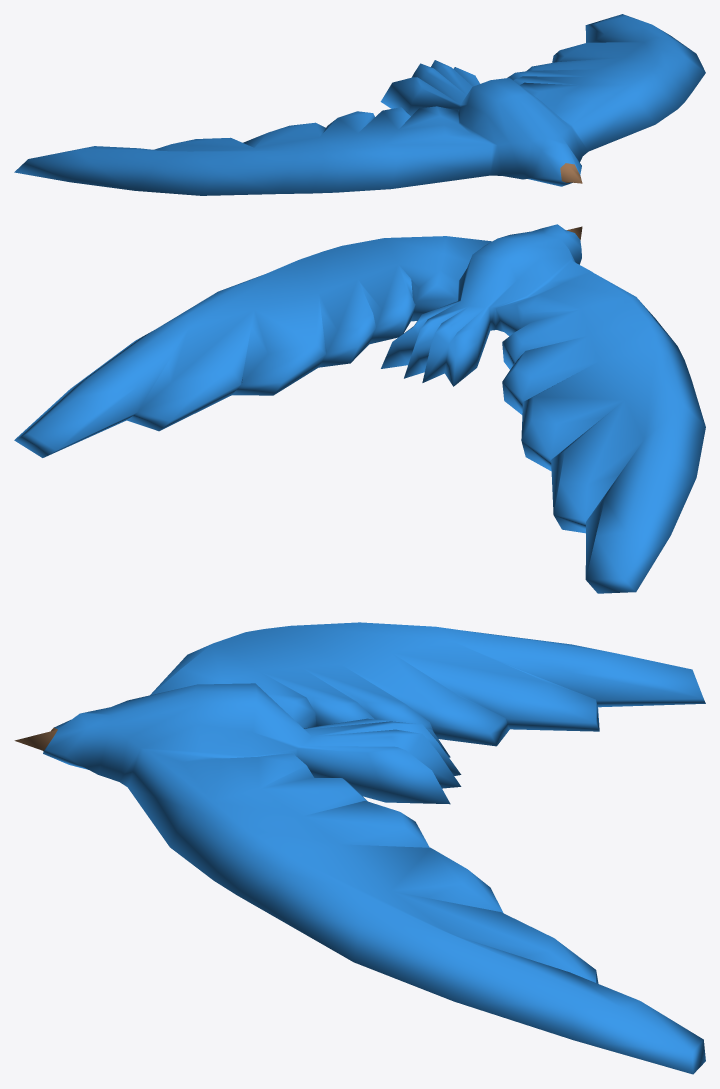
The model's file is bird_projectile.fbx.
3 views of the same model, one above another, from view 1: azimuth 30°, elevation 25°; view 2: azimuth 150°, elevation 25°; view 3: azimuth 270°, elevation 25° (orthographic). The views are drawn at different scales.
Parts seen in each view (by area): view 1: BirbProjectile; view 2: BirbProjectile; view 3: BirbProjectile.
Part boxes in pixels (<box>): BirbProjectile: <box>14,14,705,195</box>; BirbProjectile: <box>14,224,705,593</box>; BirbProjectile: <box>14,622,705,1074</box>.
Bounding box in the file's own units: 93.98 × 20.93 × 68.61.
